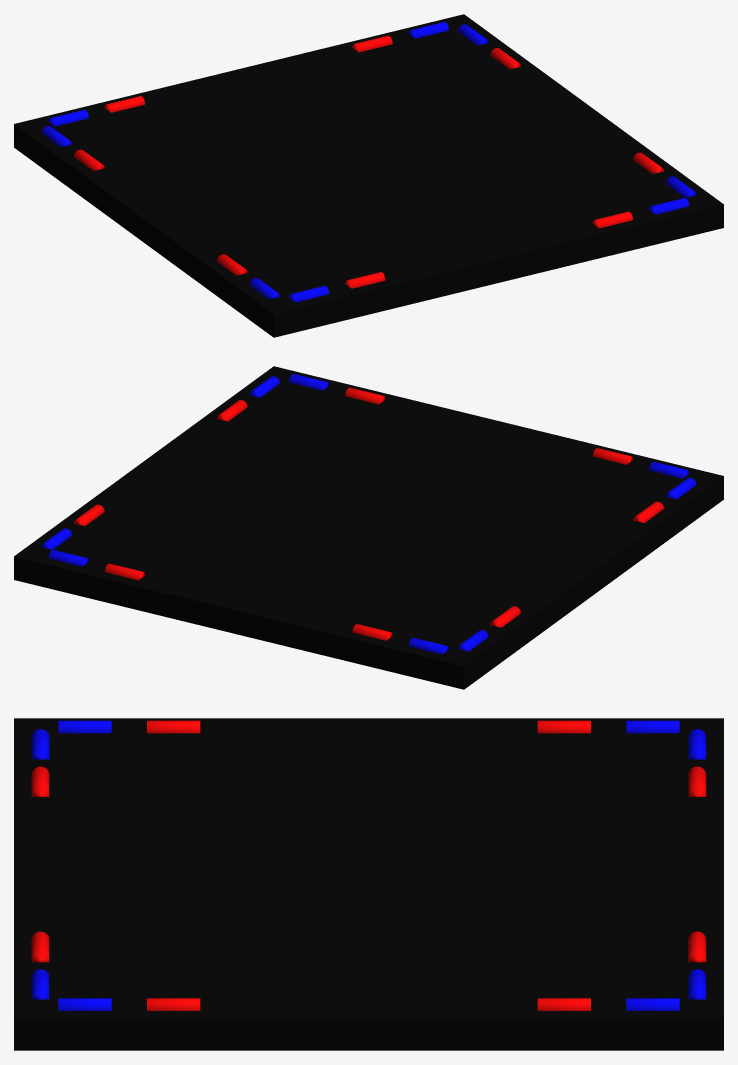
The model's file is WalkPlate.glb.
3 renders of one model, top to bottom at view 1: azimuth 30°, elevation 25°; view 2: azimuth 150°, elevation 25°; view 3: azimuth 270°, elevation 25°, orthographic. The views are drawn at different scales.
Parts seen in each view (by area): view 1: Cube.008; view 2: Cube.008; view 3: Cube.008, Cylinder.045, Cylinder.005, Cylinder.046, Cylinder.006, Cylinder.007, Cylinder.008, Cylinder.013, Cylinder.014, Cylinder.010, Cylinder.012, Cylinder.001 (+5 smaller).
Part boxes in pixels (left/top/right/bottom): Cube.008: left=14, top=14, right=723, bottom=337; Cube.008: left=14, top=366, right=723, bottom=689; Cube.008: left=14, top=718, right=723, bottom=1050; Cylinder.045: left=58, top=720, right=111, bottom=733; Cylinder.005: left=626, top=720, right=679, bottom=733; Cylinder.046: left=147, top=720, right=200, bottom=733; Cylinder.006: left=537, top=720, right=590, bottom=733; Cylinder.007: left=626, top=998, right=679, bottom=1010; Cylinder.008: left=537, top=998, right=590, bottom=1010; Cylinder.013: left=58, top=998, right=111, bottom=1010; Cylinder.014: left=147, top=998, right=200, bottom=1010; Cylinder.010: left=688, top=931, right=706, bottom=962; Cylinder.012: left=31, top=931, right=49, bottom=962; Cylinder.001: left=31, top=729, right=49, bottom=759.
Size of the model in its own units: 8 by 0.5 by 8.
